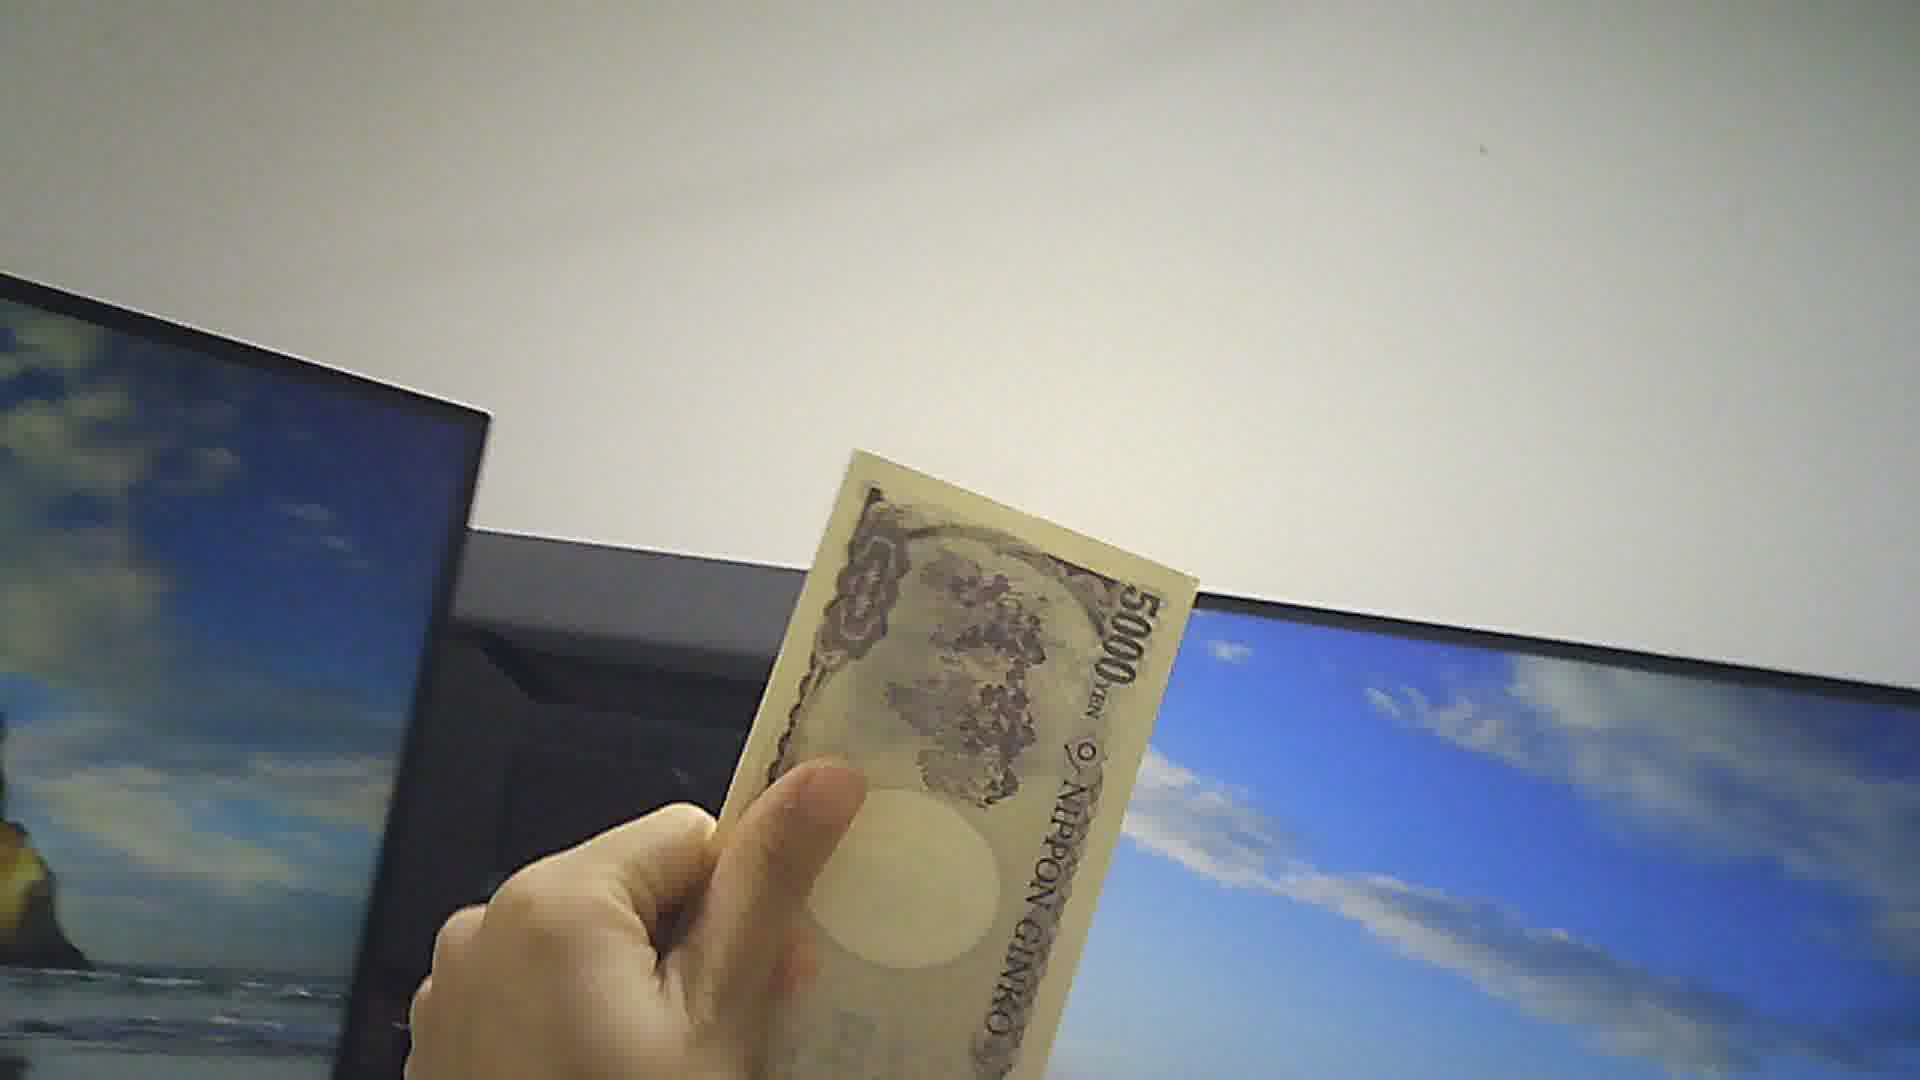5,000 Yen: (705, 442, 1204, 1079)
